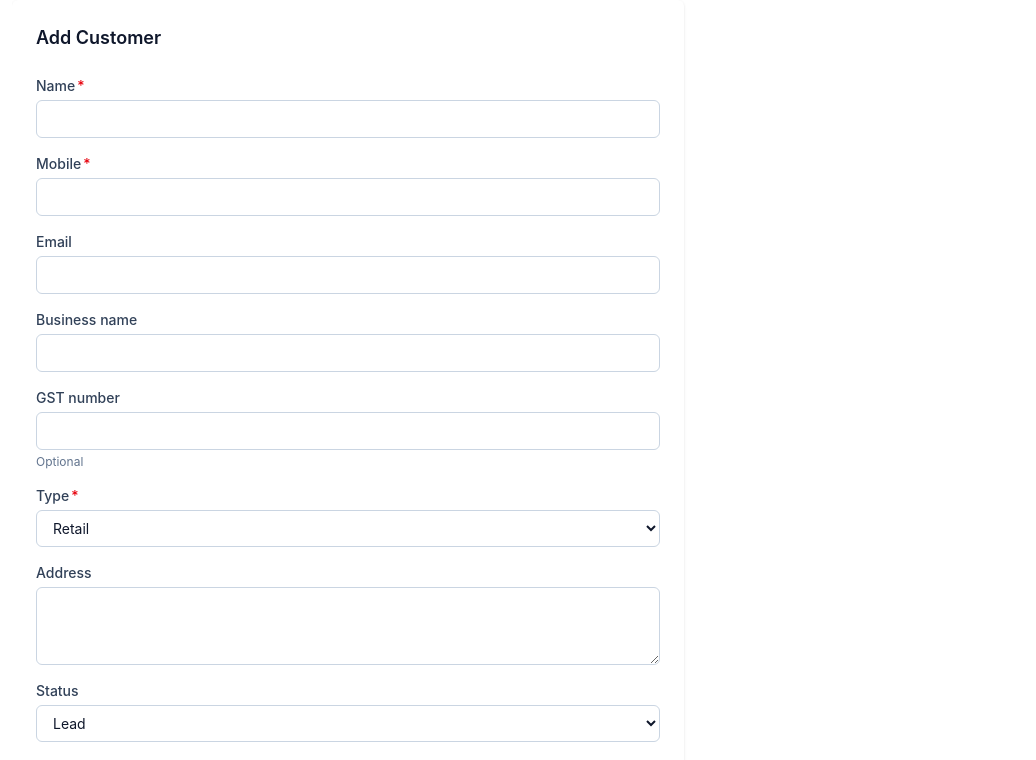
it: CustomerFormPage › creates a customer and navigates to its detail page on success
Type "Acme Distribution" into the field labelled "Name*".
click(348, 119); type("Acme Distribution")  # box [36, 100, 660, 138]
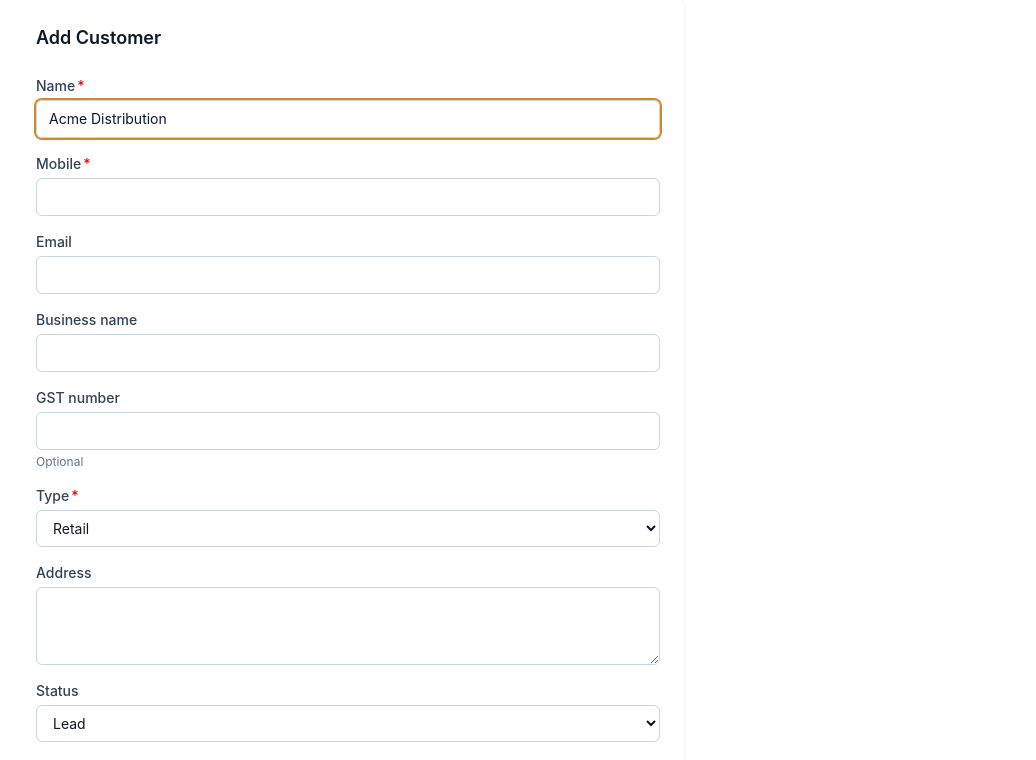
Type "9800000001" into the field labelled "Mobile*".
click(348, 197); type("9800000001")  # box [36, 178, 660, 216]
(page scrolled)
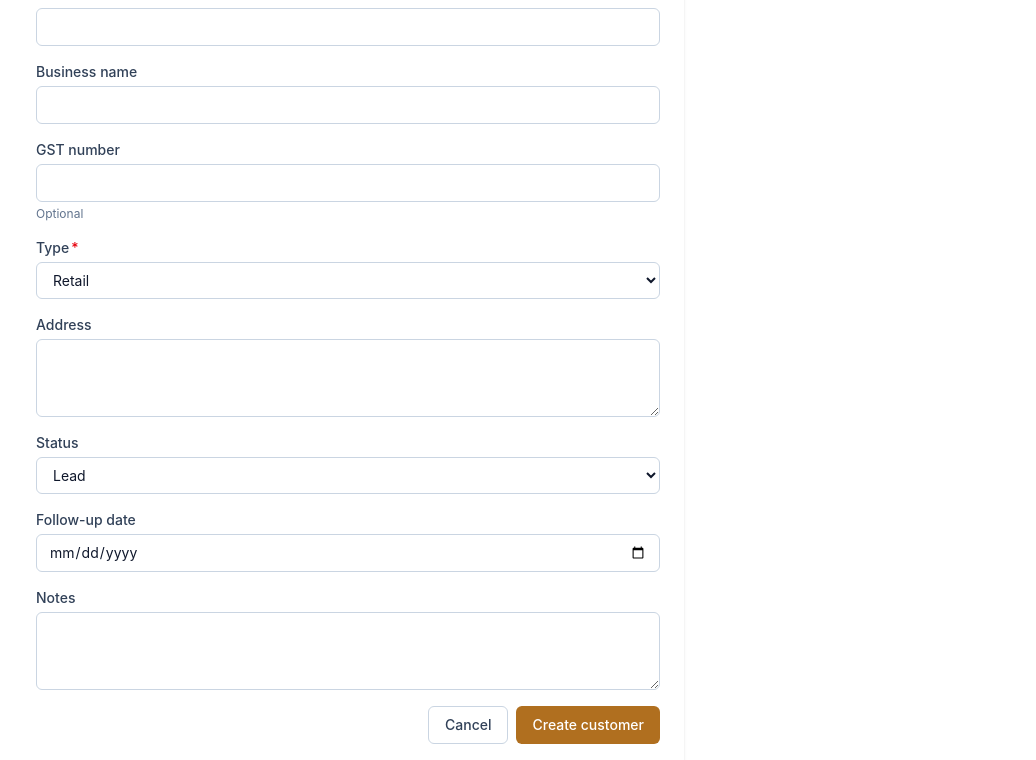
Click the button "Create customer".
click(588, 725)  # box [516, 706, 660, 744]
(page scrolled)
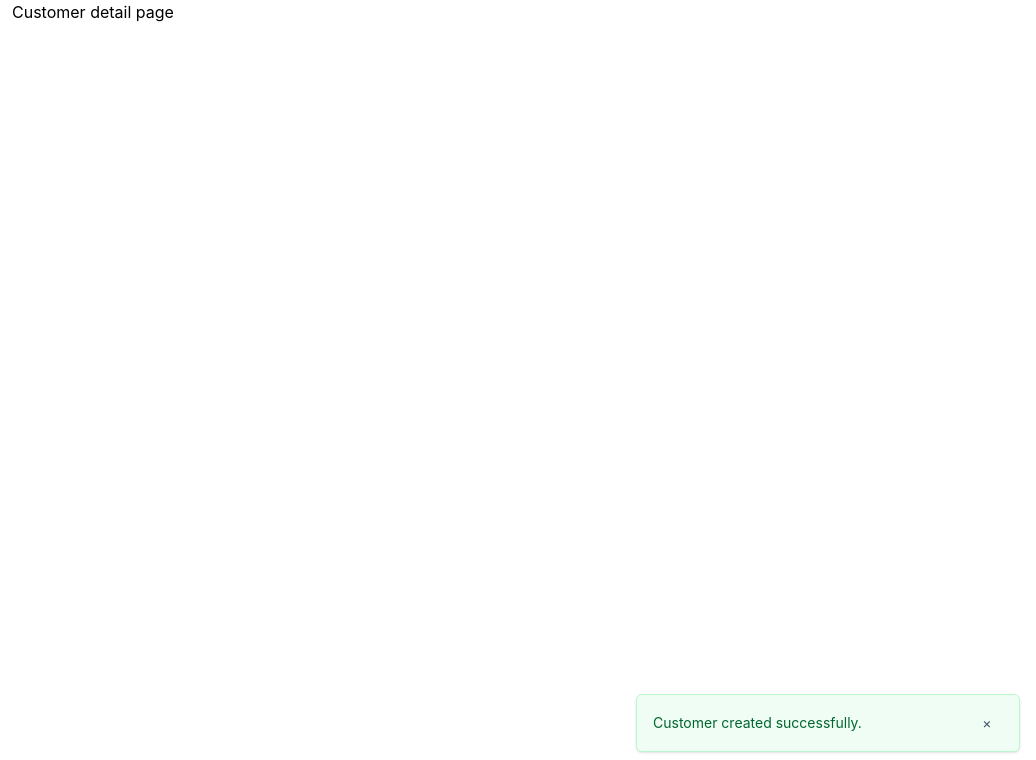
Now the text "Customer detail page" is shown, box [12, 2, 174, 22]
